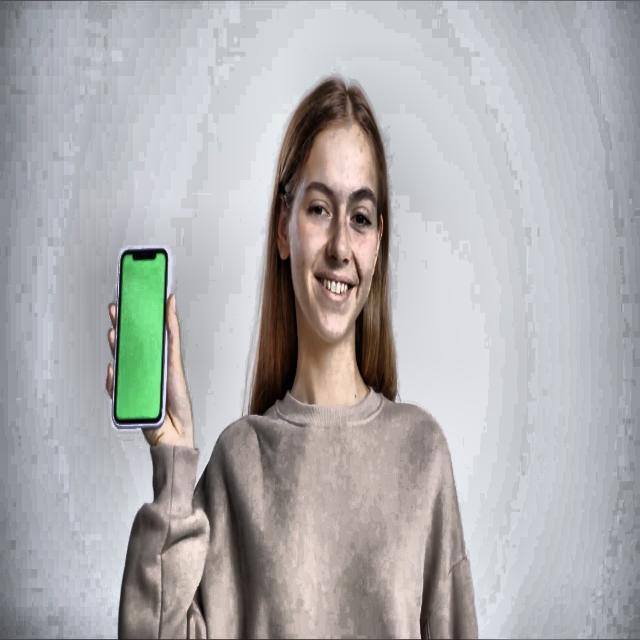Phone: (112, 244, 170, 428)
